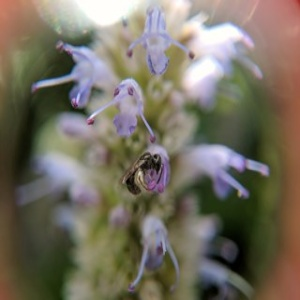bee: (127, 151, 161, 199)
